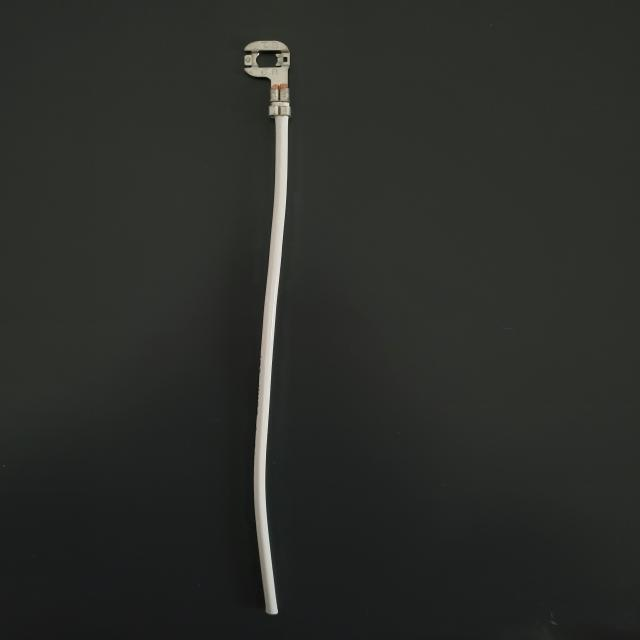good: (6, 0, 639, 634)
